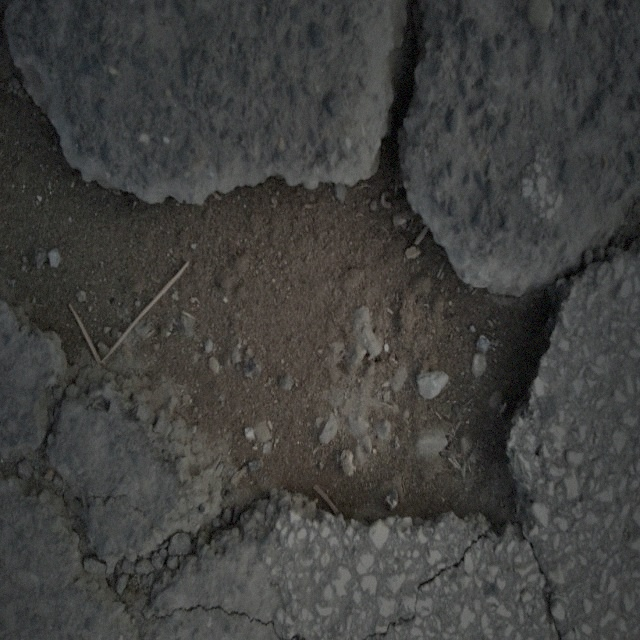pothole: (61, 97, 548, 568)
